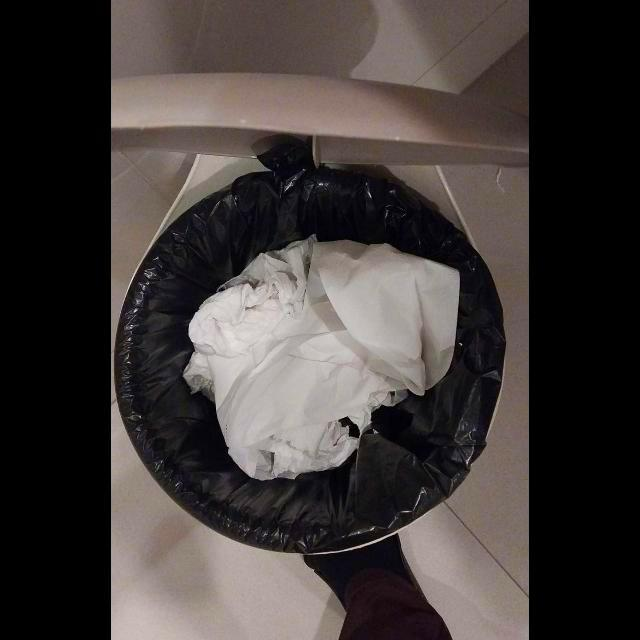paper: (183, 236, 460, 483)
